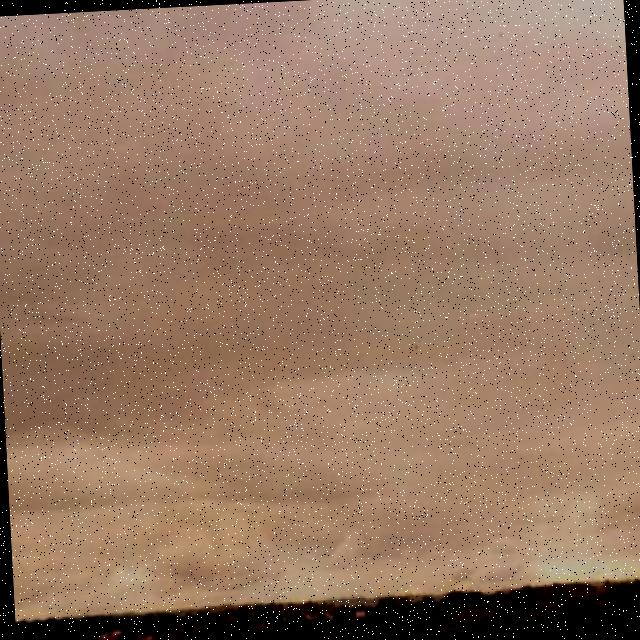Sc: (1, 138, 640, 586)
